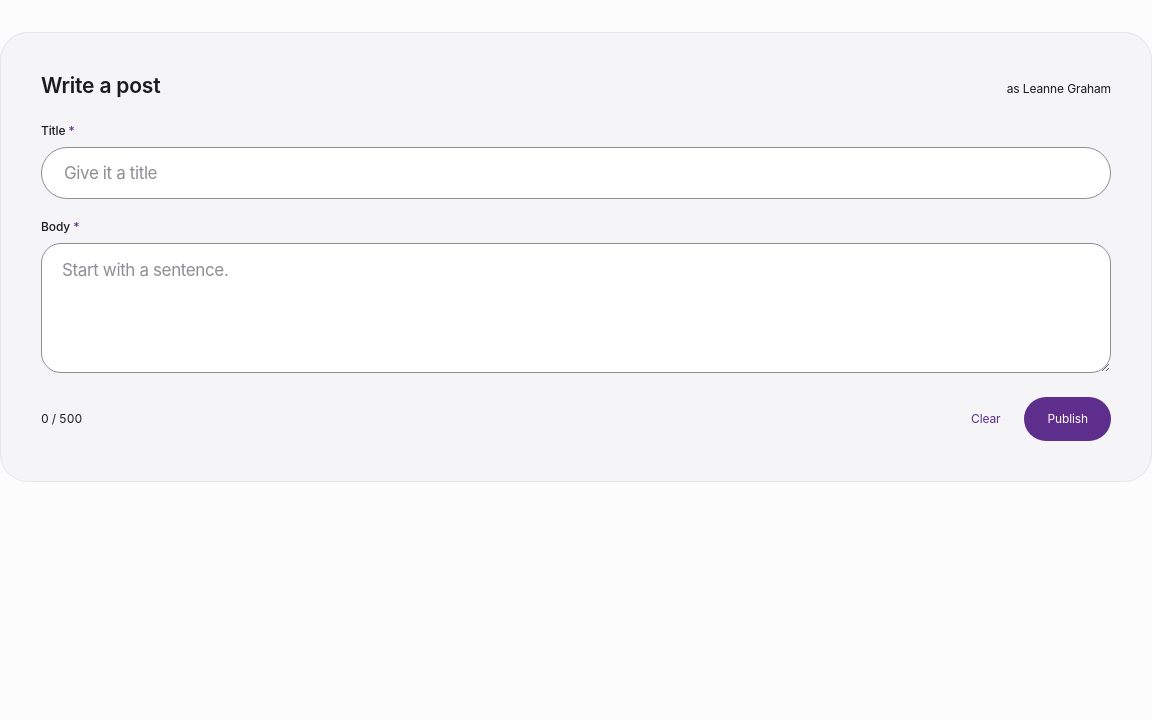
Scenario: PostComposer › blocks an empty submission and focuses the first invalid field
What coordinates should you click on to do the following:
click the button "Publish"
I would click on:
 (1068, 419)
Its box is [1024, 397, 1111, 441].
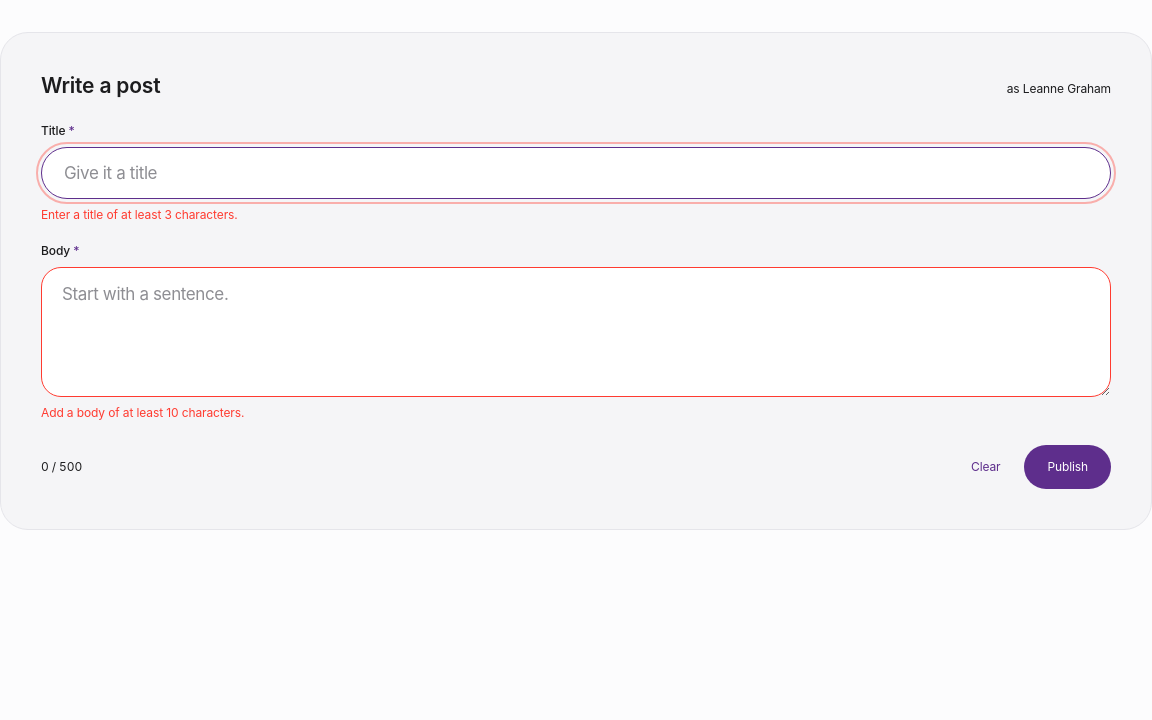
Result: the text "Enter a title of at least 3 characters." is shown at [41, 207, 238, 222]
Result: the text "Add a body of at least 10 characters." is shown at [41, 405, 244, 420]
